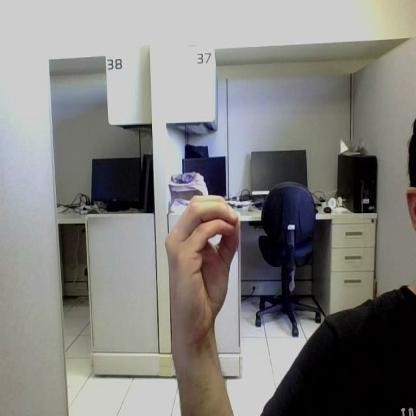O: (165, 196, 239, 339)
